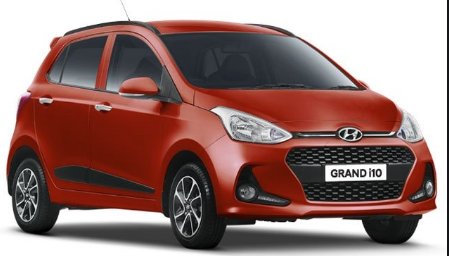car: (4, 19, 437, 250)
